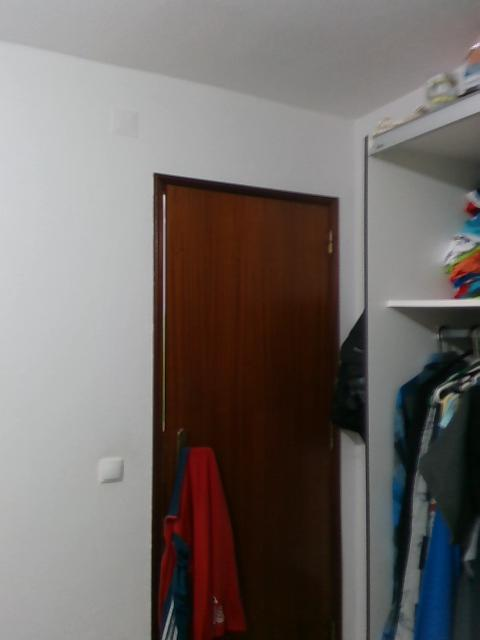closed_door: (148, 167, 341, 639)
